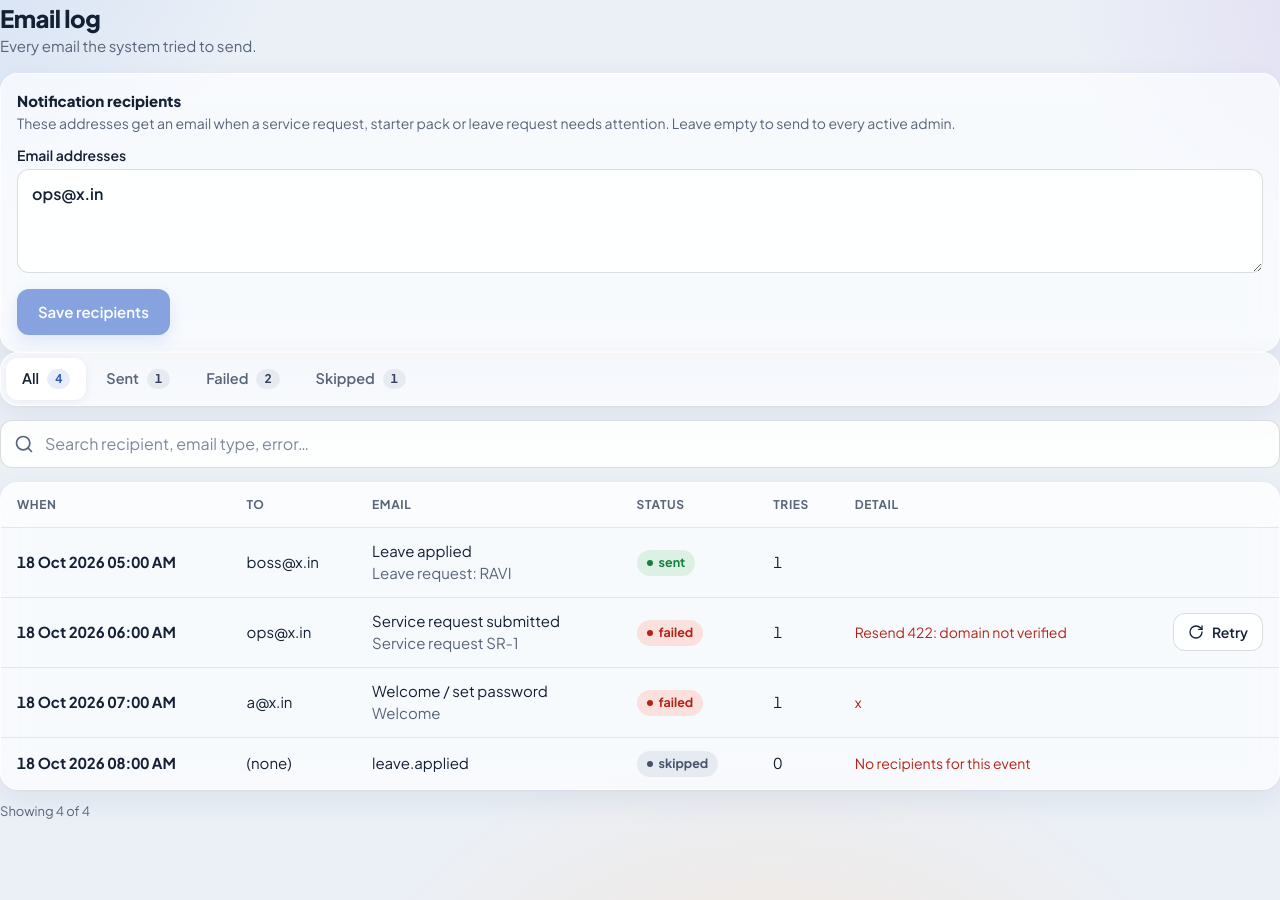
Email log › shows outcomes with counts, and the Failed tab narrows the list
The width and height of the screenshot is (1280, 900).
expect the text "Resend 422: domain not verified" is shown: met, box [855,623,1067,641]
Click the tab "Failed 2".
click(243, 379)  # box [190,358,296,400]
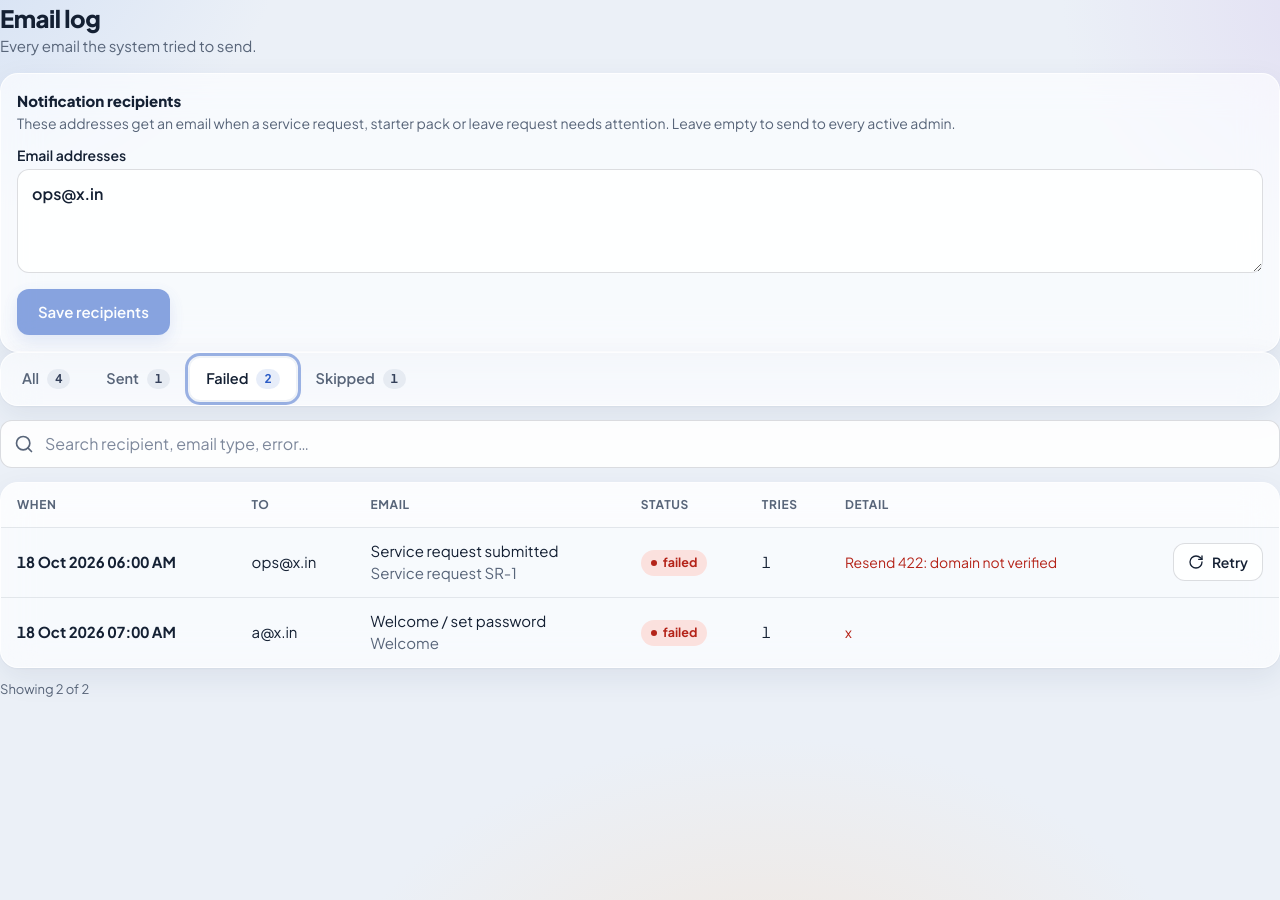
expect the text "Service request SR-1" is shown: met, box [370,563,517,582]
expect the text "Leave request: RAVI" is gone: met
